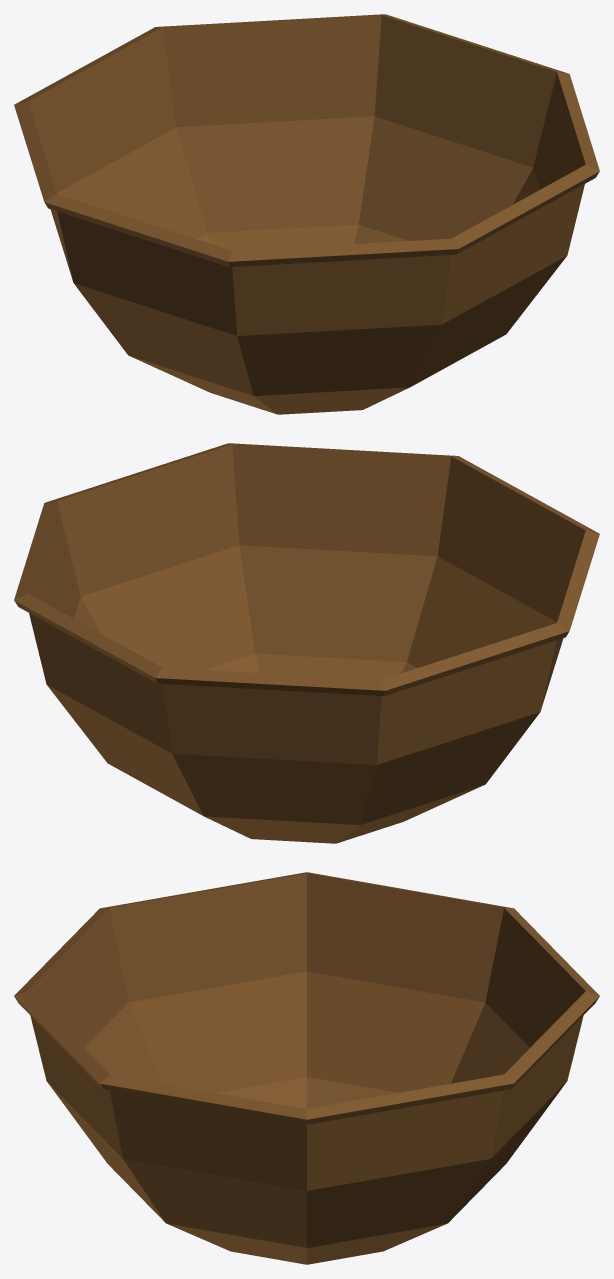
File: Bowl.fbx
3 views of the same model, one above another, from view 1: azimuth 30°, elevation 25°; view 2: azimuth 150°, elevation 25°; view 3: azimuth 270°, elevation 25° (orthographic). The views are drawn at different scales.
Visible parts, largest first — view 1: Bowl; view 2: Bowl; view 3: Bowl.
Boxes of the visible parts, bbox=[...] form: Bowl: bbox=[14, 14, 599, 414]; Bowl: bbox=[14, 443, 599, 843]; Bowl: bbox=[14, 872, 599, 1264].
Bounding box in the file's own units: 200 × 85.88 × 200.
